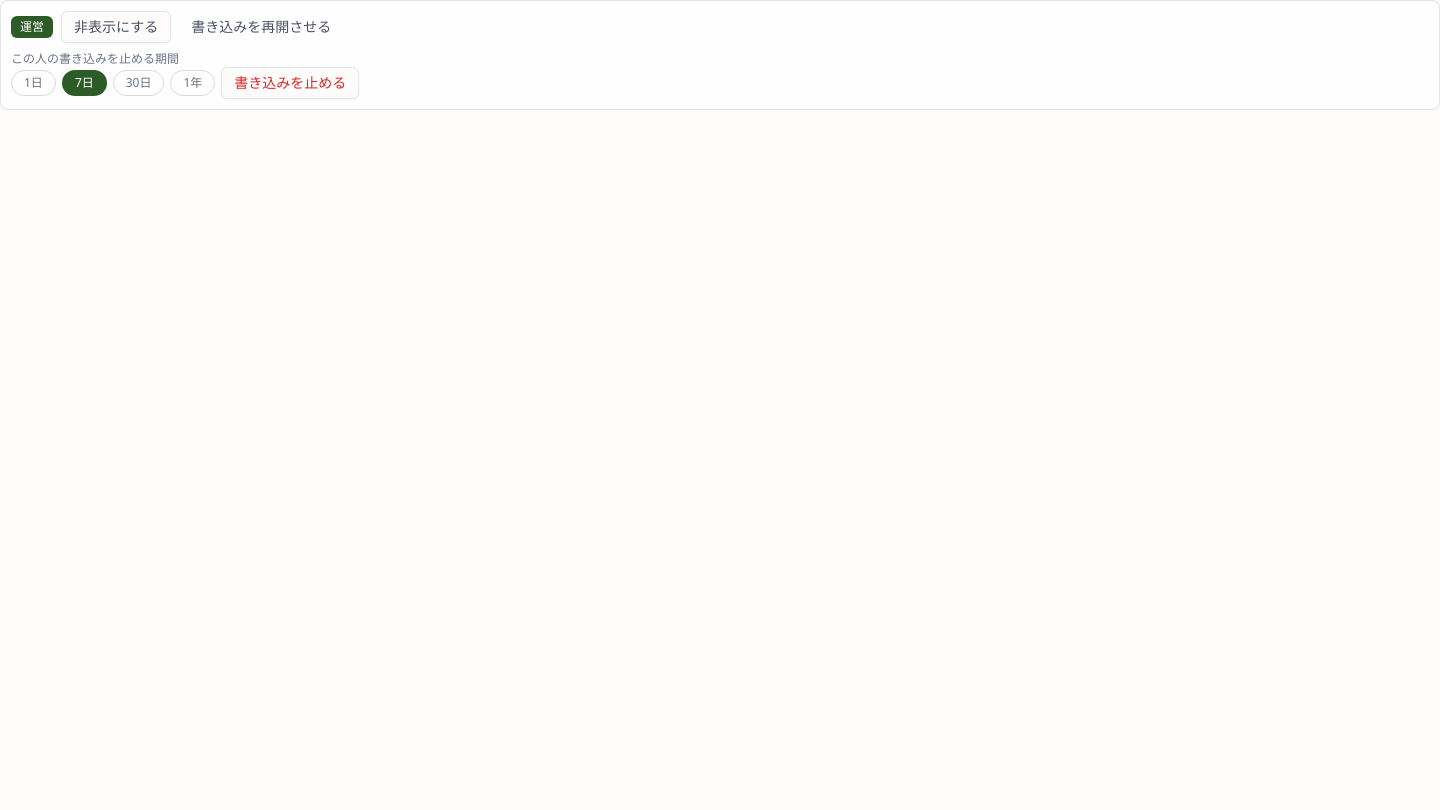
Test: StaffPostControls — 投稿 1 件への措置 › 投稿禁止は確認を経ないと呼ばない
Step 1. Click the button "書き込みを止める" → (290, 83), box [221,67,359,99]
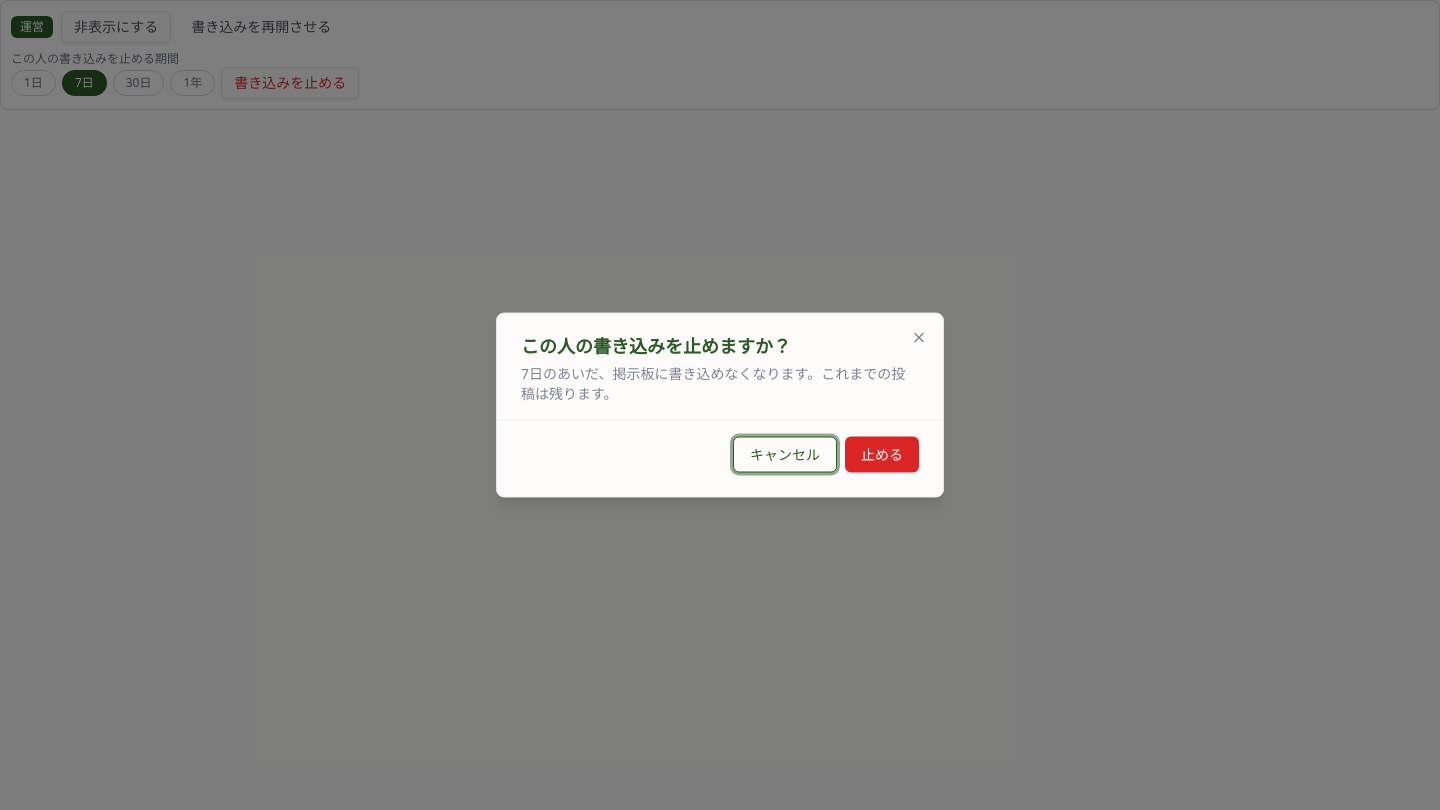
Check: the heading "この人の書き込みを止めますか？" is shown, box [521,336,791,356]
